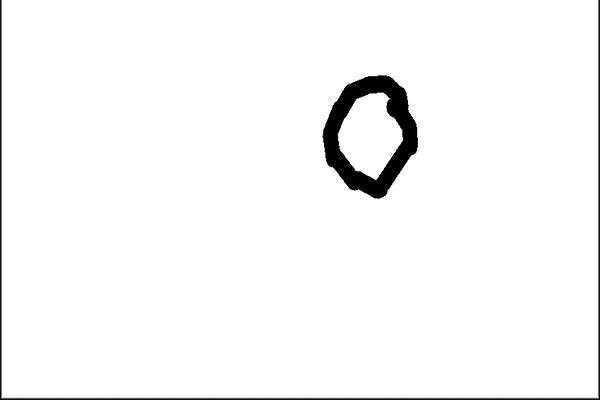O: (304, 64, 434, 201)
